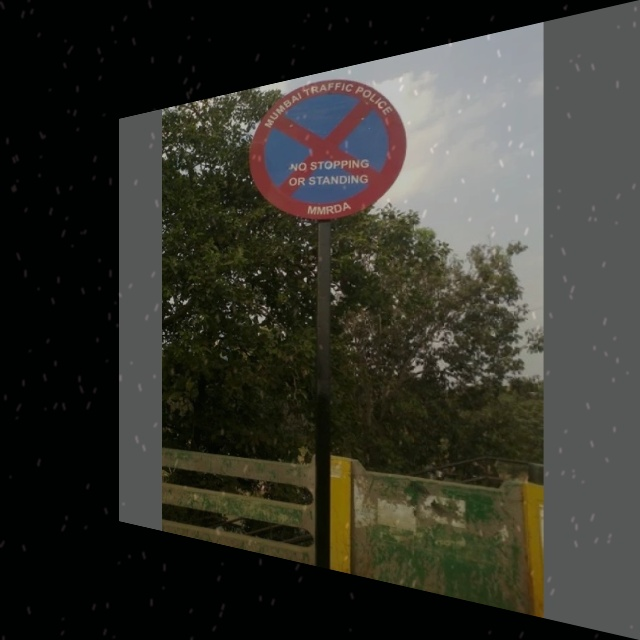No_Stopping_or_Standing: (250, 57, 413, 234)
